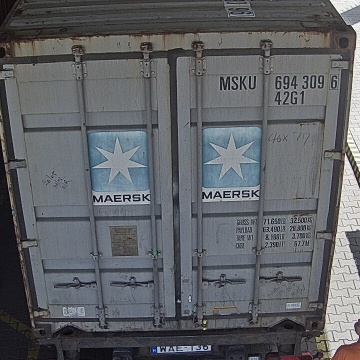serial_id: (220, 74, 339, 89)
